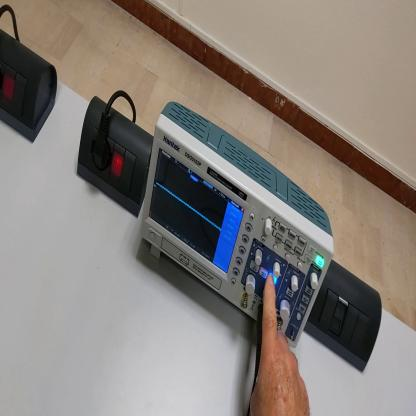hand: (251, 273, 309, 416)
oscilloscope: (140, 101, 334, 349)
socket: (78, 93, 155, 216), (2, 28, 61, 146)
